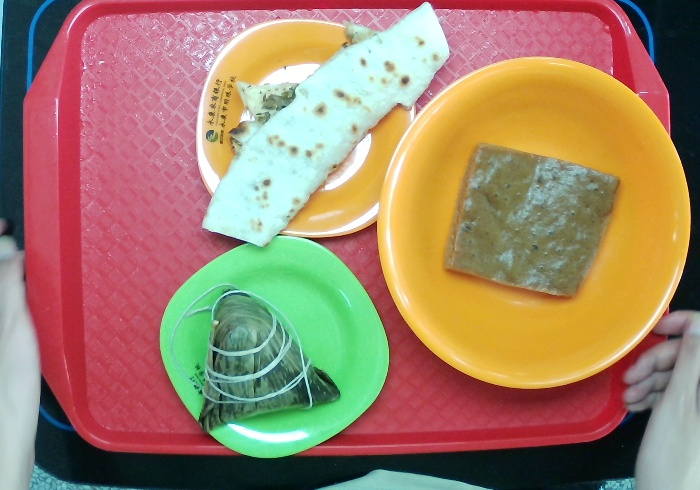YKMZ-Ju_Se_Fang_Die: (176, 4, 431, 252)
YKMZ-Ju_Se_Tang_Wan: (366, 51, 694, 409)
YKMZ-Lv_Se_Fang_Die: (153, 223, 407, 474)
